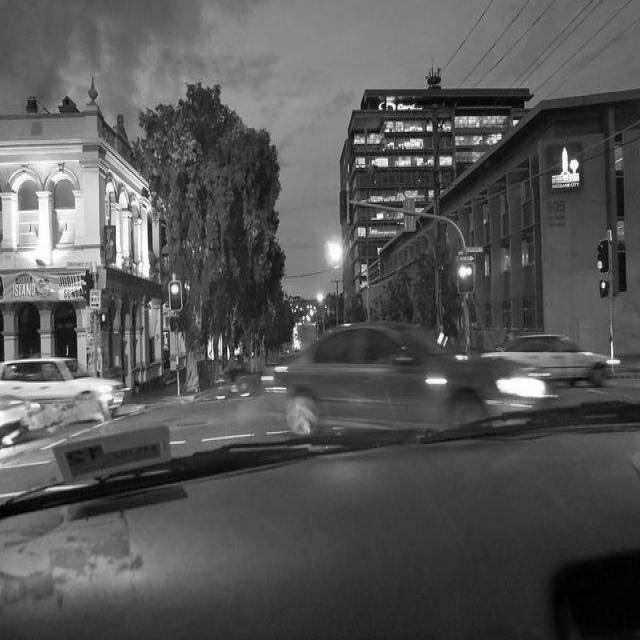vehicle: (260, 323, 552, 436), (1, 357, 123, 423), (486, 335, 611, 385)
